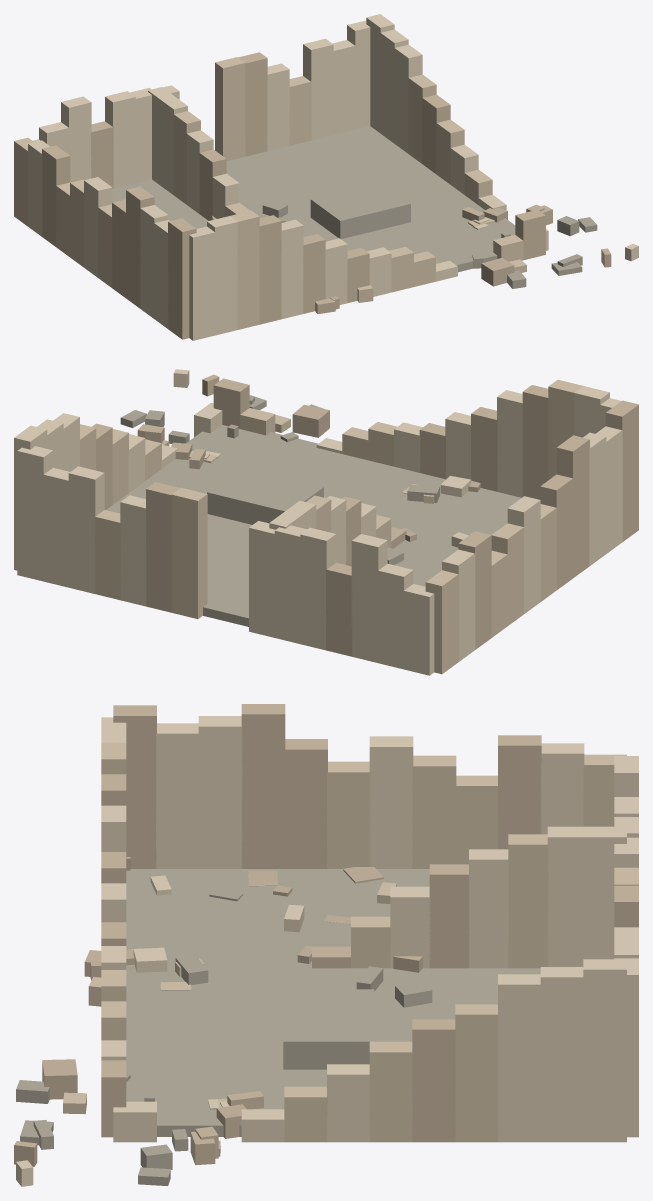
The model's file is courtyard.glb.
3 renders of one model, top to bottom at view 1: azimuth 30°, elevation 25°; view 2: azimuth 150°, elevation 25°; view 3: azimuth 270°, elevation 25°, orthographic. The views are drawn at different scales.
Visible parts, largest first — view 1: stone_0, stone_59, adobe_8, adobe3_15, adobe3_16, adobe_17, adobe2_40, adobe3_12, adobe2_18, adobe3_5, adobe2_9, adobe3_19 (+42 smaller); view 2: stone_0, adobe_8, stone_59, adobe3_12, adobe3_14, adobe3_3, adobe3_5, adobe2_9, adobe3_6, adobe3_13, adobe3_7, adobe2_37 (+45 smaller); view 3: stone_0, adobe3_41, adobe3_42, adobe3_43, adobe2_37, stone_59, adobe3_38, adobe3_39, adobe_44, adobe3_34, adobe2_36, adobe3_52 (+40 smaller).
Part boxes in pixels (box(x1,y1,x2,y2)): stone_0: box(112, 126, 515, 272); stone_59: box(310, 182, 410, 239); adobe_8: box(215, 57, 245, 160); adobe3_15: box(189, 226, 215, 340); adobe3_16: box(207, 216, 237, 335); adobe_17: box(230, 210, 259, 329); adobe2_40: box(168, 218, 196, 339); adobe3_12: box(303, 38, 333, 140); adobe2_18: box(259, 215, 281, 324); adobe3_5: box(105, 91, 135, 188); adobe2_9: box(238, 52, 267, 156); adobe3_19: box(281, 219, 303, 318); stone_0: box(106, 425, 521, 626); adobe_8: box(171, 487, 207, 618); stone_59: box(207, 467, 323, 524); adobe3_12: box(68, 466, 104, 593); adobe3_14: box(17, 446, 53, 581); adobe3_3: box(351, 534, 387, 662); adobe3_5: box(300, 527, 336, 650); adobe2_9: box(146, 482, 179, 612); adobe3_6: box(274, 525, 306, 643); adobe3_13: box(43, 467, 69, 587); adobe3_7: box(249, 521, 275, 637); adobe2_37: box(556, 435, 589, 578); stone_0: box(126, 869, 540, 1136); adobe3_41: box(583, 959, 626, 1142); adobe3_42: box(540, 967, 584, 1142); adobe3_43: box(498, 974, 541, 1142); adobe2_37: box(241, 704, 285, 868); stone_59: box(283, 989, 374, 1069); adobe3_38: box(198, 716, 242, 868); adobe3_39: box(156, 723, 199, 868); adobe_44: box(455, 1004, 498, 1142); adobe3_34: box(369, 736, 413, 868); adobe2_36: box(284, 739, 327, 868); adobe3_52: box(547, 826, 587, 966).
Bounding box in the file's own units: 9.08 × 2.3 × 7.56.
